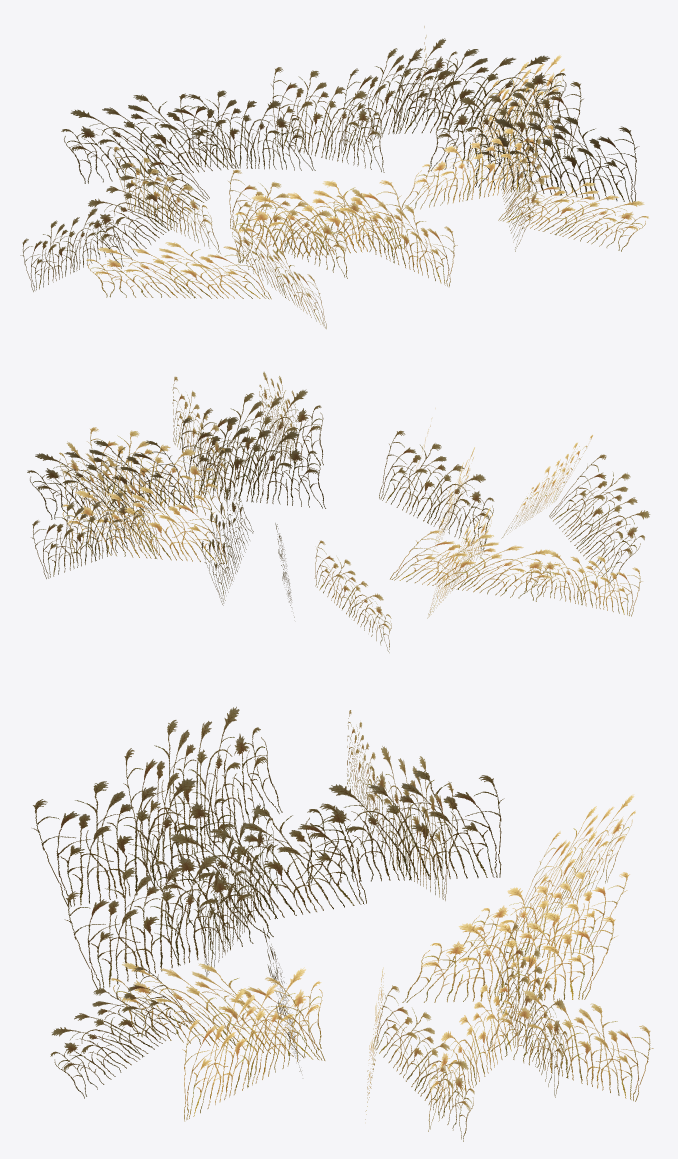
File: reeds_lod1.glb
3 renders of one model, top to bottom at view 1: azimuth 30°, elevation 25°; view 2: azimuth 150°, elevation 25°; view 3: azimuth 270°, elevation 25°, orthographic. The views are drawn at different scales.
Parts seen in each view (by area): view 1: reeds_lod1; view 2: reeds_lod1; view 3: reeds_lod1.
Boxes of the visible parts, x1,y1,x2,y2 form: reeds_lod1: (20,26,648,328); reeds_lod1: (27,371,650,652); reeds_lod1: (32,706,653,1141).
Size of the model in its own units: 15.41 by 2.21 by 10.91.
1 material, 1 textured.
